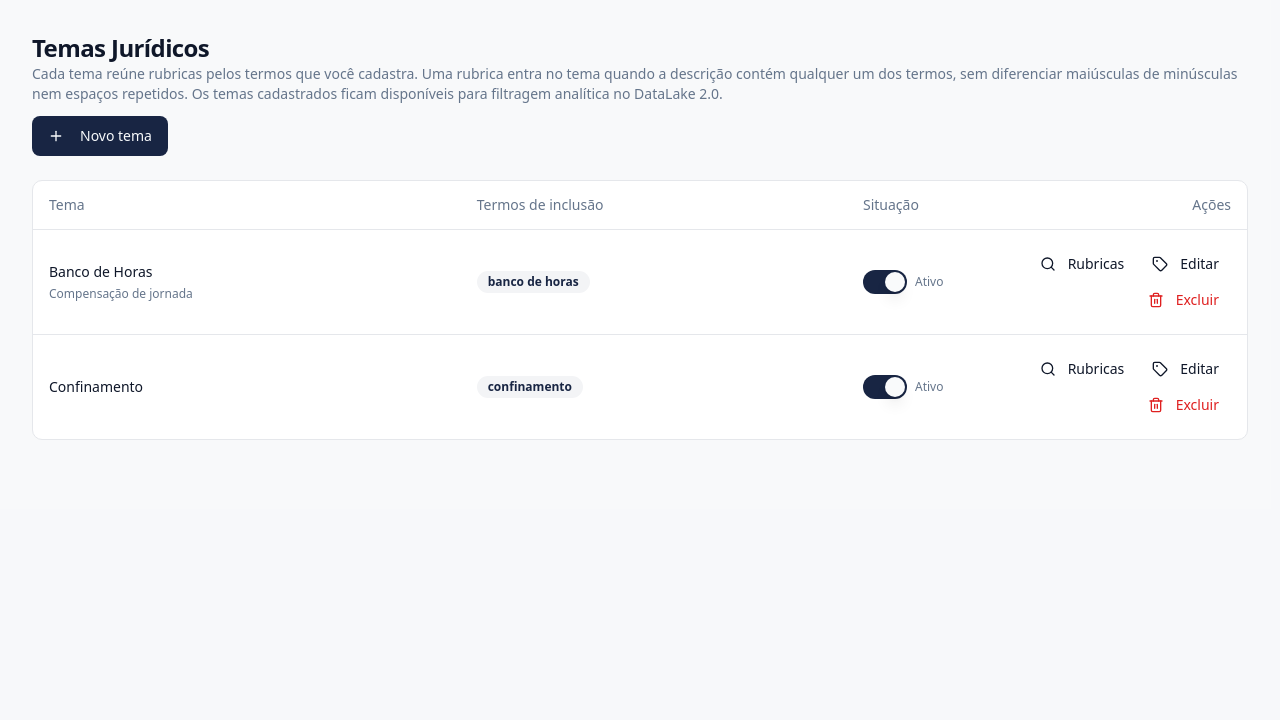
it: Temas — rubricas no DataLake 2.0 › consulta as rubricas no DataLake 2.0 paginada e informa o total de rubricas
Expected: the text "Banco de Horas" is shown, [49,262,152,280]
What coordinates should you click on to do the following:
click the 1st button "Rubricas"
I would click on:
 (1082, 264)
Its box is [1028,246,1136,282].
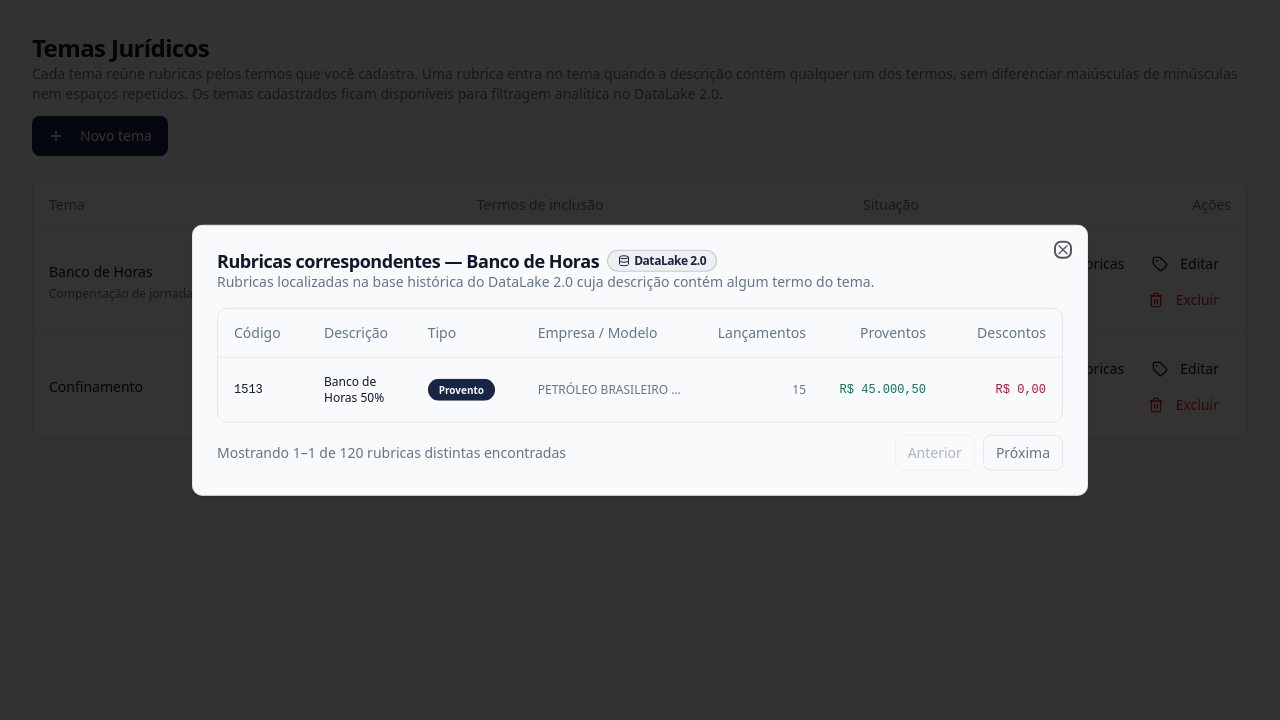
Expected: the text "Mostrando 1–1 de 120 rubricas distintas encontradas" is shown, [217,442,566,462]
Expected: the text "DataLake 2.0" is shown, [607,250,717,272]
